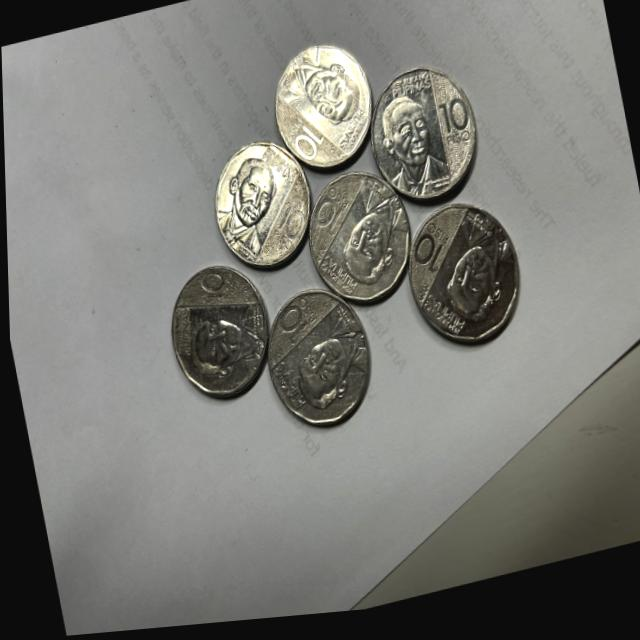10_New_Front: (402, 222, 459, 298), (424, 96, 478, 175), (269, 114, 329, 179), (259, 185, 312, 256), (304, 188, 358, 252), (187, 263, 246, 320), (269, 297, 322, 353)
